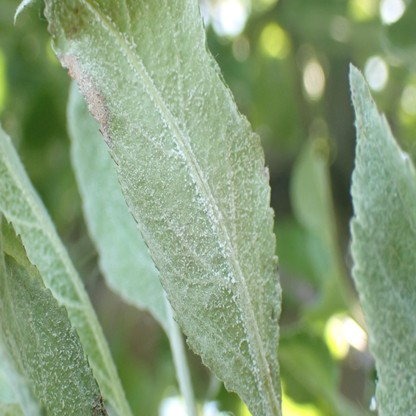powdery_mildew: (44, 1, 282, 416), (349, 62, 416, 414), (0, 212, 105, 416)
